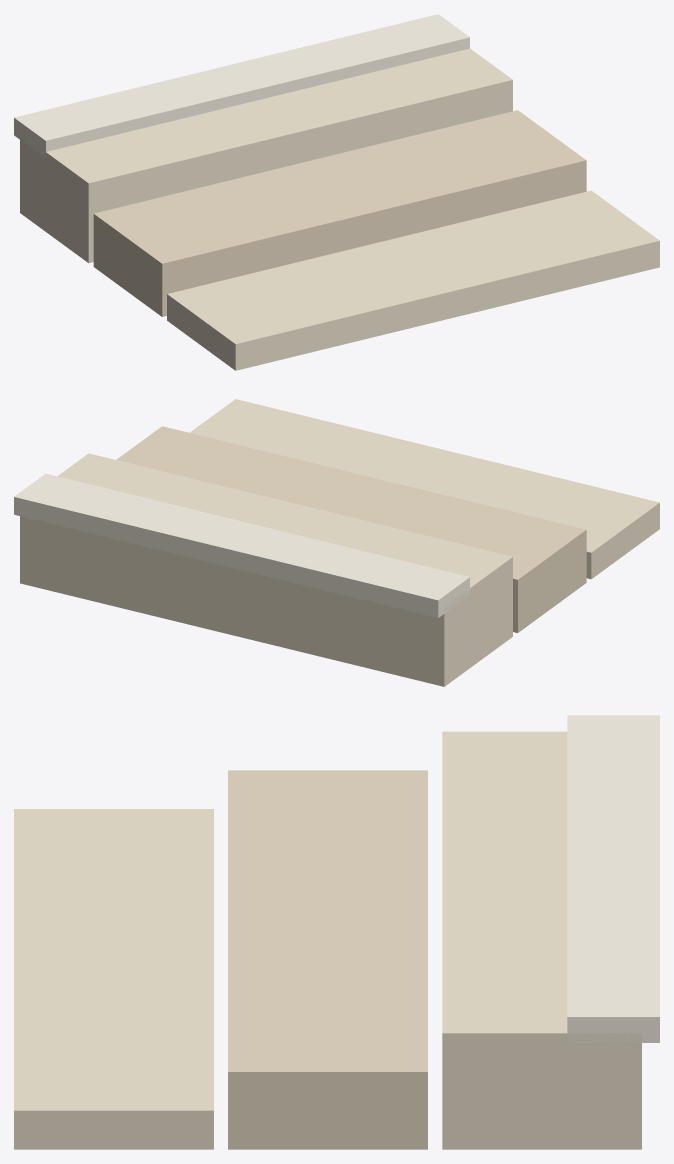
File: Stairs_3Step_2m.glb
3 renders of one model, top to bottom at view 1: azimuth 30°, elevation 25°; view 2: azimuth 150°, elevation 25°; view 3: azimuth 270°, elevation 25°, orthographic. The views are drawn at different scales.
Parts seen in each view (by area): view 1: stepB_1, stepA_0, stepC_2, trim_3; view 2: stepC_2, stepB_1, stepA_0, trim_3; view 3: stepB_1, stepA_0, stepC_2, trim_3.
Boxes of the visible parts, box(x1,y1,x2,y2) form: stepB_1: box(93, 110, 586, 316); stepA_0: box(167, 190, 659, 370); stepC_2: box(20, 48, 512, 263); trim_3: box(14, 14, 469, 158); stepC_2: box(20, 453, 512, 686); stepB_1: box(116, 426, 586, 632); stepA_0: box(190, 399, 659, 579); trim_3: box(14, 473, 469, 617); stepB_1: box(228, 770, 427, 1149); stepA_0: box(14, 809, 213, 1149); stepC_2: box(442, 731, 641, 1149); trim_3: box(567, 715, 659, 1042).
Size of the model in its own units: 2 by 0.41 by 1.81.
